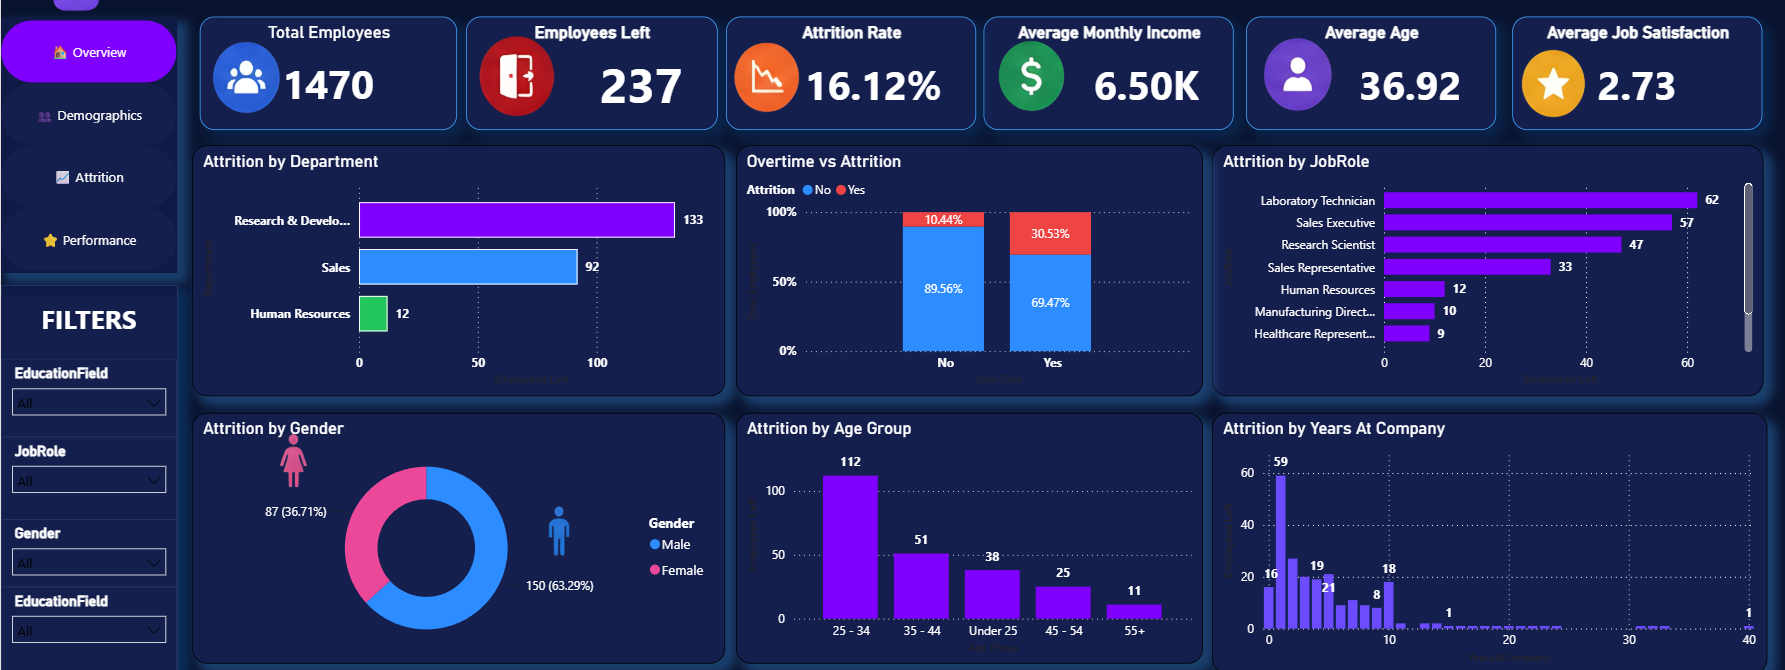

What the dashboard file says about the page in this screenshot:
{"tool":"powerbi","page":{"name":"  🏠  Overview ","canvas":[1800,720],"ordinal":0},"visuals":[{"type":"shape","box":[0,58.6,177.6,256.9],"z":0},{"type":"cardVisual","title":"Total Employees","fields":{"Data":["HR_Cleaned.Total Employees"]},"box":[200,58,259,114],"z":1000},{"type":"textbox","box":[190,0,808.9,57.8],"z":2000},{"type":"cardVisual","title":"Employees Left","fields":{"Data":["HR_Cleaned.Employees Left"]},"box":[467.8,57.8,253.3,114.4],"z":3000},{"type":"cardVisual","title":"Average Monthly Income","fields":{"Data":["HR_Cleaned.Average Monthly Income"]},"box":[990,57.8,252.2,114.4],"z":4000},{"type":"cardVisual","title":"Average Job Satisfaction","fields":{"Data":["HR_Cleaned.Average Job Satisfaction"]},"box":[1522.2,57.8,252.2,114.4],"z":5000},{"type":"cardVisual","title":"Attrition Rate","fields":{"Data":["HR_Cleaned.Attrition Rate"]},"box":[730,57.8,252.2,114.4],"z":6000},{"type":"cardVisual","title":"Average Age","fields":{"Data":["HR_Cleaned.Average Age"]},"box":[1254.4,57.8,252.2,114.4],"z":7000},{"type":"clusteredBarChart","title":" Attrition by Department","fields":{"Category":["HR_Cleaned.Department"],"Y":["HR_Cleaned.Employees Left"]},"box":[193,188,537,253],"z":8000},{"type":"clusteredBarChart","title":"Attrition by JobRole","fields":{"Category":["HR_Cleaned.JobRole"],"Y":["HR_Cleaned.Employees Left"]},"box":[1220,188,555,253],"z":9000},{"type":"donutChart","title":"Attrition by Gender","fields":{"Category":["HR_Cleaned.Gender"],"Y":["HR_Cleaned.Employees Left"]},"box":[193,457,537,253],"z":10000},{"type":"hundredPercentStackedColumnChart","title":"Overtime vs Attrition","fields":{"Category":["HR_Cleaned.OverTime"],"Series":["HR_Cleaned.Attrition"],"Y":["HR_Cleaned.Total Employees"]},"box":[740,188,470,253],"z":11000},{"type":"clusteredColumnChart","title":"Attrition by Age Group","fields":{"Category":["HR_Cleaned.Age Group"],"Y":["HR_Cleaned.Employees Left"]},"box":[740,457,470,253],"z":12000},{"type":"shape","box":[0,328,178,393],"z":13000},{"type":"clusteredColumnChart","title":" Attrition by Years At Company","fields":{"Category":["HR_Cleaned.YearsAtCompany"],"Y":["HR_Cleaned.Employees Left"]},"box":[1220,457,559,263],"z":14000},{"type":"slicer","fields":{"Values":["HR_Cleaned.EducationField"]},"box":[0,403.2,177.4,98.4],"z":15000},{"type":"slicer","fields":{"Values":["HR_Cleaned.JobRole"]},"box":[0,480.6,177.4,83.9],"z":16000},{"type":"slicer","fields":{"Values":["HR_Cleaned.Gender"]},"box":[0,564.5,177.4,82.3],"z":17000},{"type":"slicer","fields":{"Values":["HR_Cleaned.EducationField"]},"box":[0,632.3,177.4,87.1],"z":18000},{"type":"textbox","box":[0,338.7,177.4,64.5],"z":19000},{"type":"image","box":[157,55,183,123],"z":20000},{"type":"image","box":[1489.2,70.3,147.3,117.6],"z":21000},{"type":"image","box":[691,59,156.4,125.6],"z":22000},{"type":"image","box":[1210.8,60.8,193.2,127],"z":23000},{"type":"image","box":[982.4,59.5,124.3,116.2],"z":24000},{"type":"image","box":[440.5,50,163.5,132.4],"z":25000},{"type":"image","box":[0,0,193.2,60.8],"z":26000},{"type":"image","box":[508,532,112,74],"z":27000},{"type":"image","box":[200,463.8,192.8,75.4],"z":28000},{"type":"pageNavigator","box":[0,61.2,177.5,253.8],"z":29000}]}

Visuals, with their boxes on the page's 1800x720 design canvas (x1, y1, x2, y2). These are canvas units, not pixel positions in the 1785x670 screenshot, which may show the page scaled, cropped or inside an application window:
shape: (0, 59, 178, 316)
"Total Employees" cardVisual: (200, 58, 459, 172)
textbox: (190, 0, 999, 58)
"Employees Left" cardVisual: (468, 58, 721, 172)
"Average Monthly Income" cardVisual: (990, 58, 1242, 172)
"Average Job Satisfaction" cardVisual: (1522, 58, 1774, 172)
"Attrition Rate" cardVisual: (730, 58, 982, 172)
"Average Age" cardVisual: (1254, 58, 1507, 172)
" Attrition by Department" clusteredBarChart: (193, 188, 730, 441)
"Attrition by JobRole" clusteredBarChart: (1220, 188, 1775, 441)
"Attrition by Gender" donutChart: (193, 457, 730, 710)
"Overtime vs Attrition" hundredPercentStackedColumnChart: (740, 188, 1210, 441)
"Attrition by Age Group" clusteredColumnChart: (740, 457, 1210, 710)
shape: (0, 328, 178, 721)
" Attrition by Years At Company" clusteredColumnChart: (1220, 457, 1779, 720)
slicer - HR_Cleaned.EducationField: (0, 403, 177, 502)
slicer - HR_Cleaned.JobRole: (0, 481, 177, 564)
slicer - HR_Cleaned.Gender: (0, 564, 177, 647)
slicer - HR_Cleaned.EducationField: (0, 632, 177, 719)
textbox: (0, 339, 177, 403)
image: (157, 55, 340, 178)
image: (1489, 70, 1636, 188)
image: (691, 59, 847, 185)
image: (1211, 61, 1404, 188)
image: (982, 60, 1107, 176)
image: (440, 50, 604, 182)
image: (0, 0, 193, 61)
image: (508, 532, 620, 606)
image: (200, 464, 393, 539)
pageNavigator: (0, 61, 178, 315)
